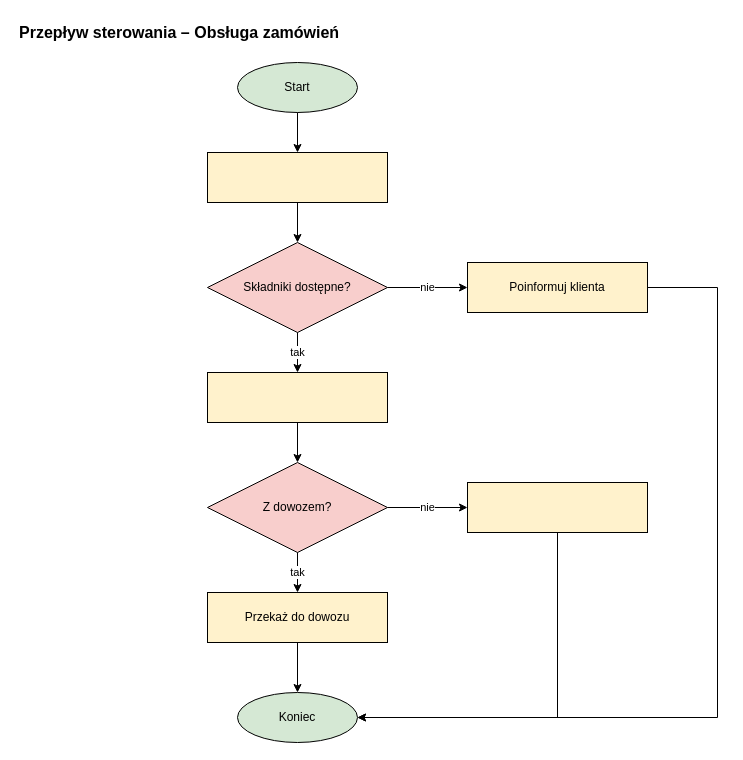
This 743x760 diagram has some shape labels left out. The box of each missing label's shape, as (x1, y1, x2, y2) in pixels:
Przygotuj zamówienie: (206, 372, 388, 422)
Przyjmij zamówienie: (206, 152, 388, 202)
Wydaj i rozlicz: (466, 482, 648, 532)
